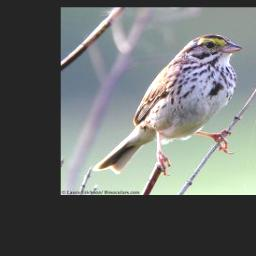Sparrow: (92, 33, 244, 177)
